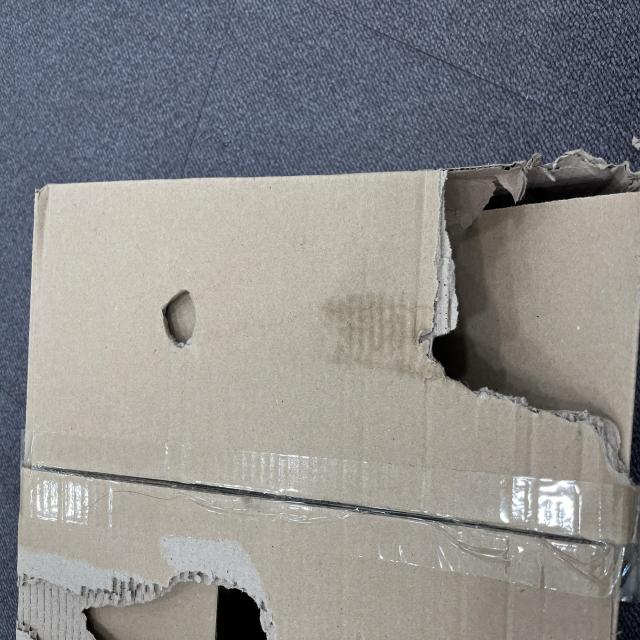damaged: (0, 284, 59, 362)
